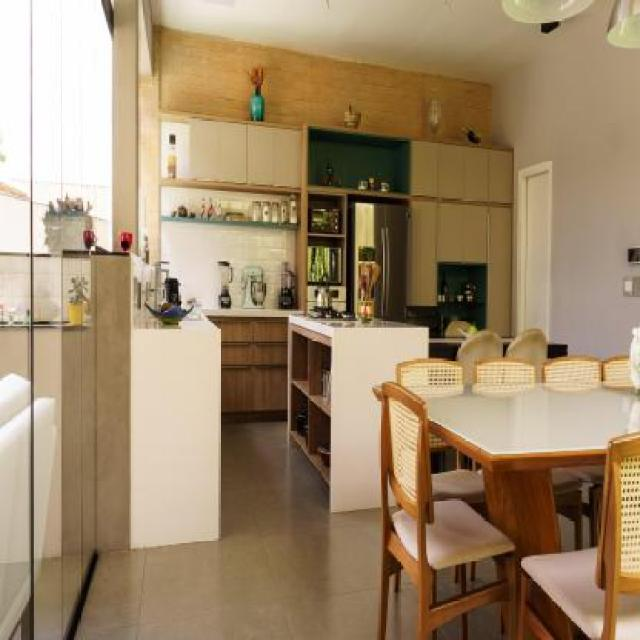Floor: (73, 421, 382, 640), (385, 568, 419, 640), (467, 602, 507, 640), (466, 556, 496, 592), (436, 566, 459, 603), (557, 514, 575, 552), (577, 482, 593, 503), (582, 515, 590, 549), (388, 506, 396, 520)
